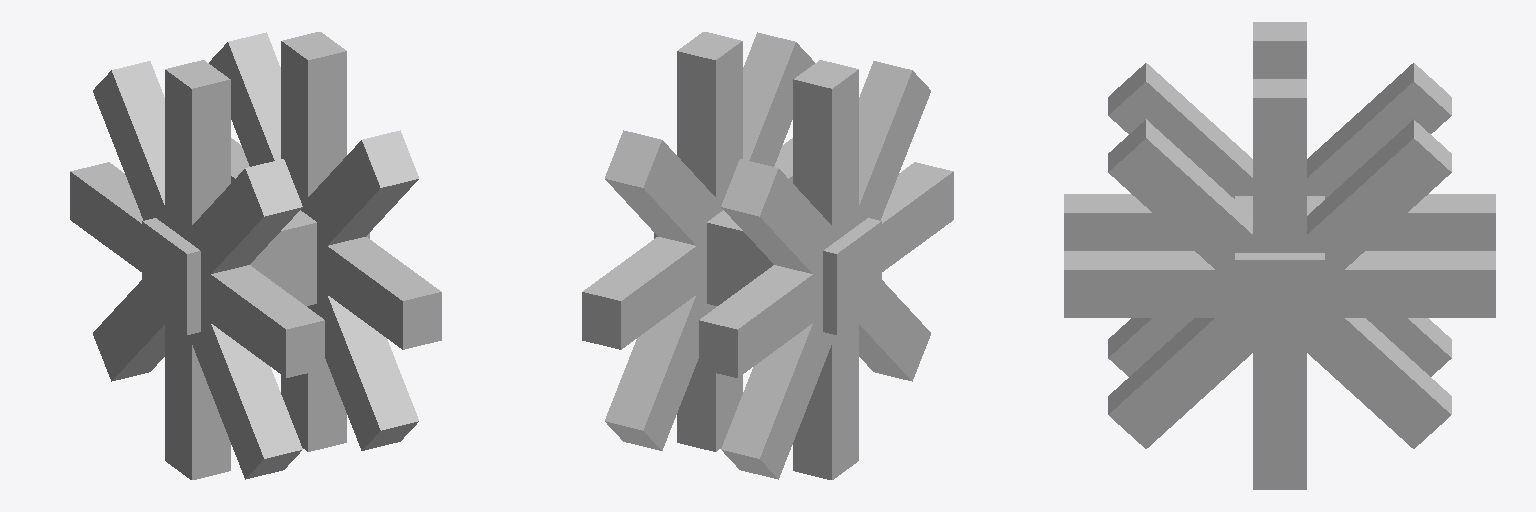
Rendered from water_wheel.obj.
The picture shows the model from 3 angles: view 1: azimuth 30°, elevation 25°; view 2: azimuth 150°, elevation 25°; view 3: azimuth 270°, elevation 25°; orthographic projection.
Visible parts, largest first — view 1: Cube; view 2: Cube; view 3: Cube.
Part boxes in pixels (bbox=[...]): Cube: bbox=[70, 32, 441, 479]; Cube: bbox=[582, 32, 953, 479]; Cube: bbox=[1064, 22, 1495, 489].
Bounding box in the file's own units: 4.71 × 9.64 × 9.64.